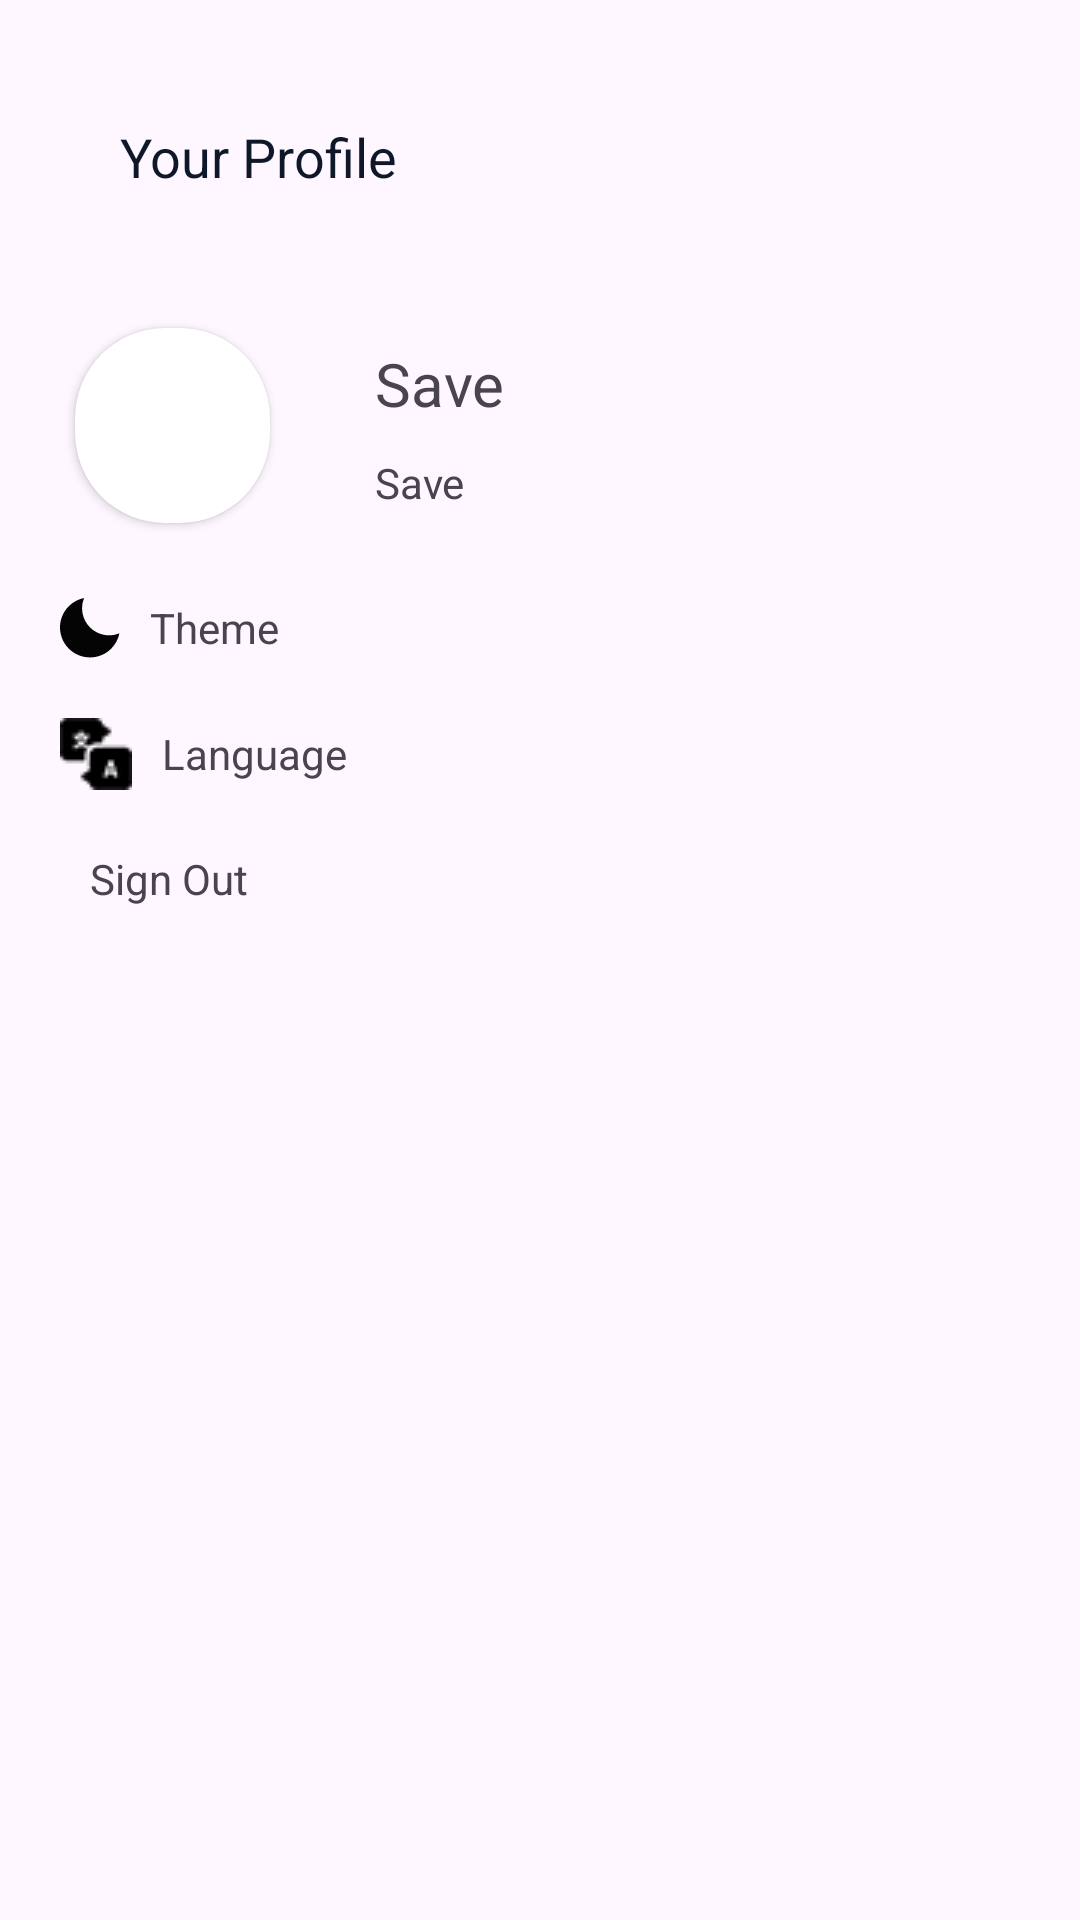

Where icons sit on this 1080*1920 app screen, as (x1,y1,x2,y2):
translate: (60,718,132,790)
